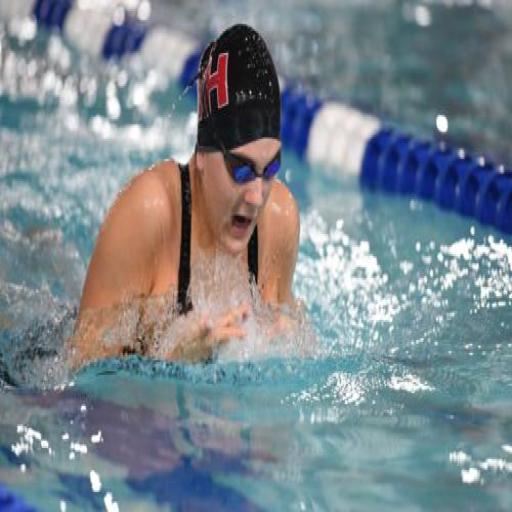swimming: (65, 20, 308, 377)
